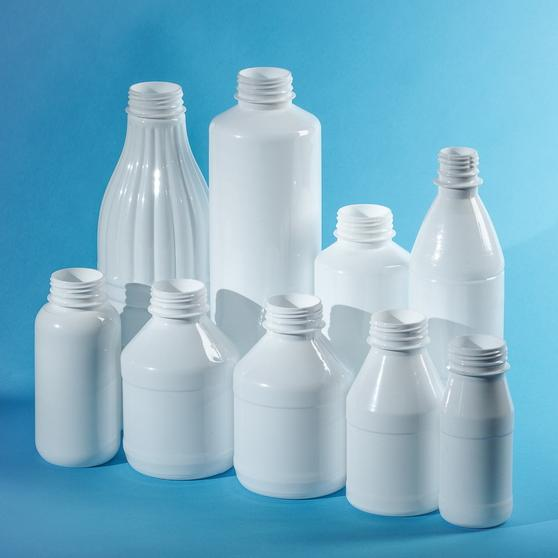milk: (208, 58, 322, 309)
